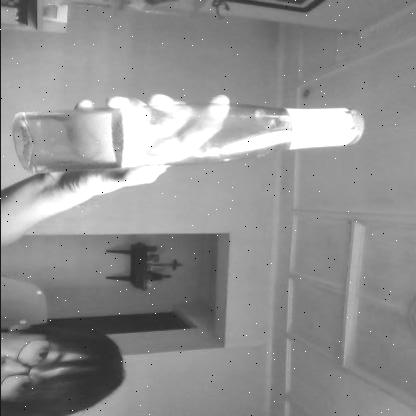Plastic Bottle: (7, 96, 372, 180)
